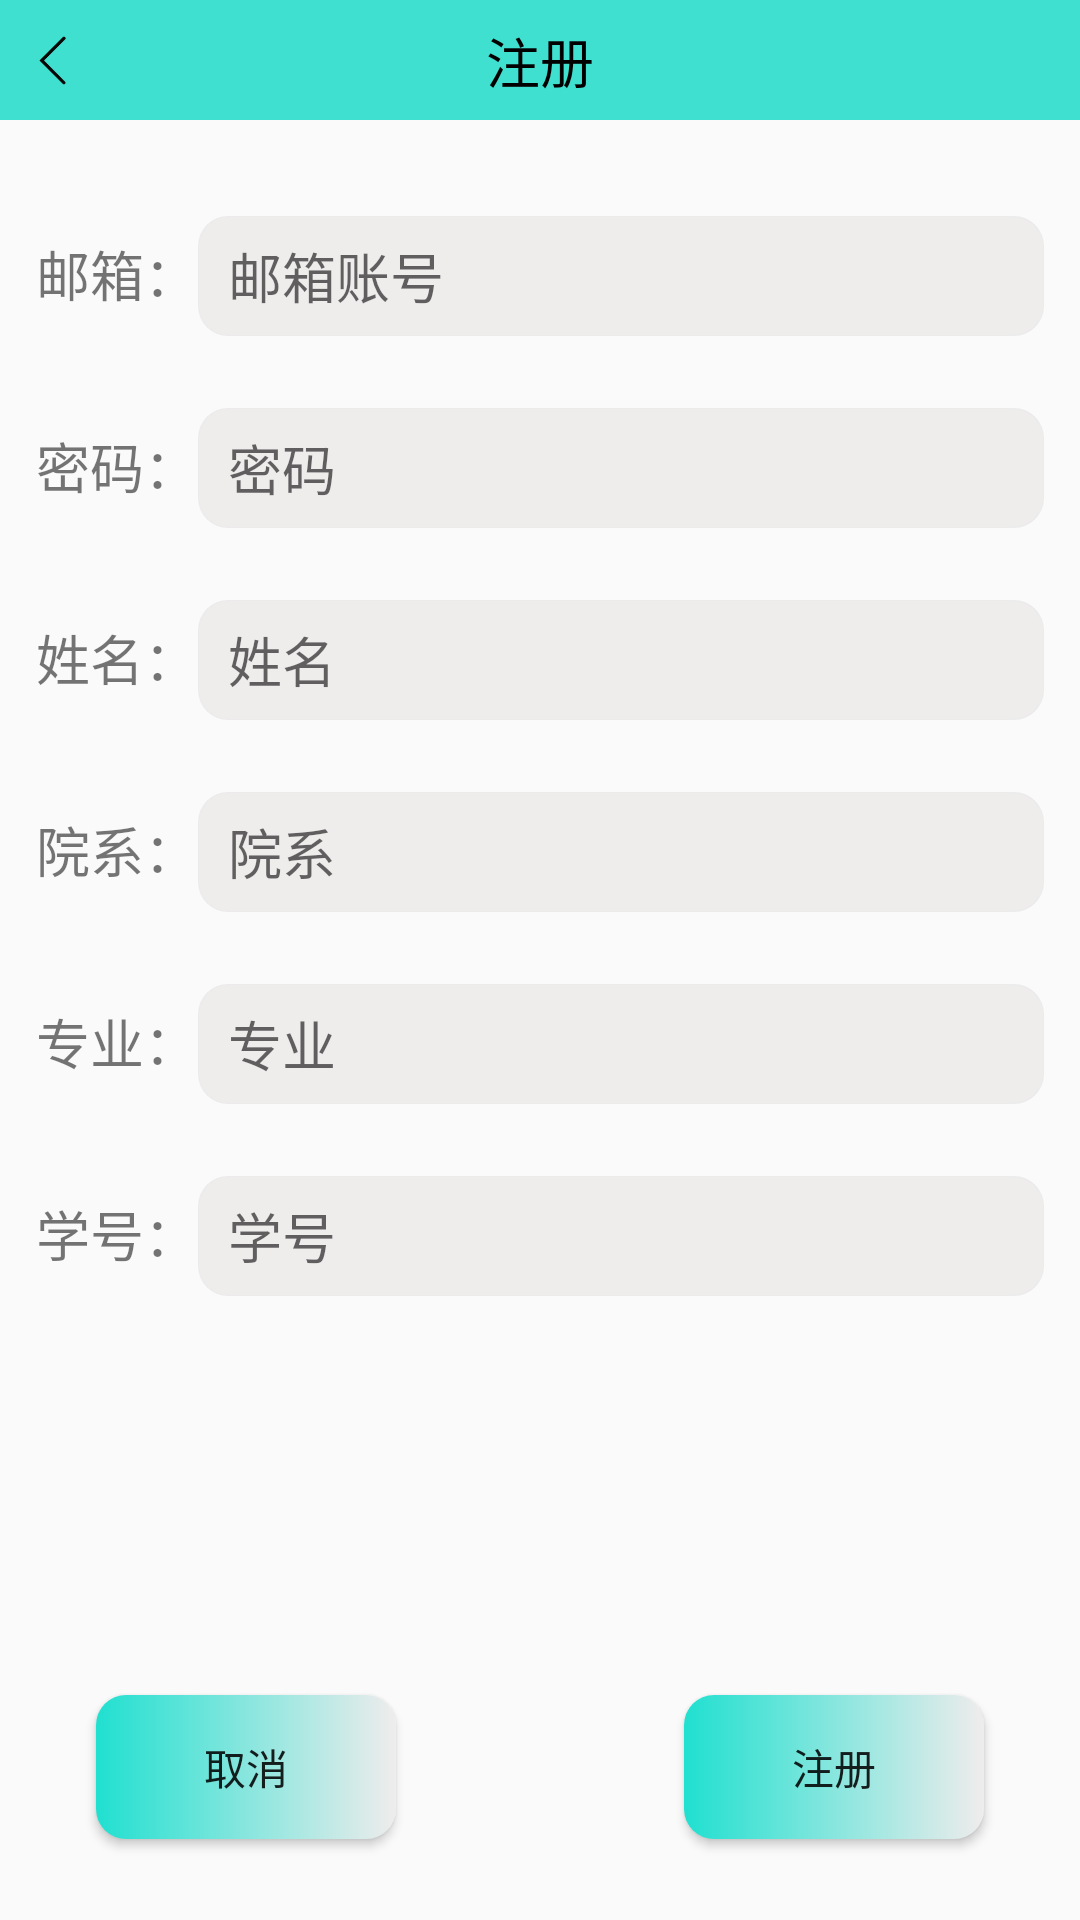

Locate icon controls on the screen. Image size 1080 × 1920, boxes as {"left": x1, "top": y1, "right": x2, "bottom": y2}.
return: {"left": 39, "top": 36, "right": 66, "bottom": 85}
